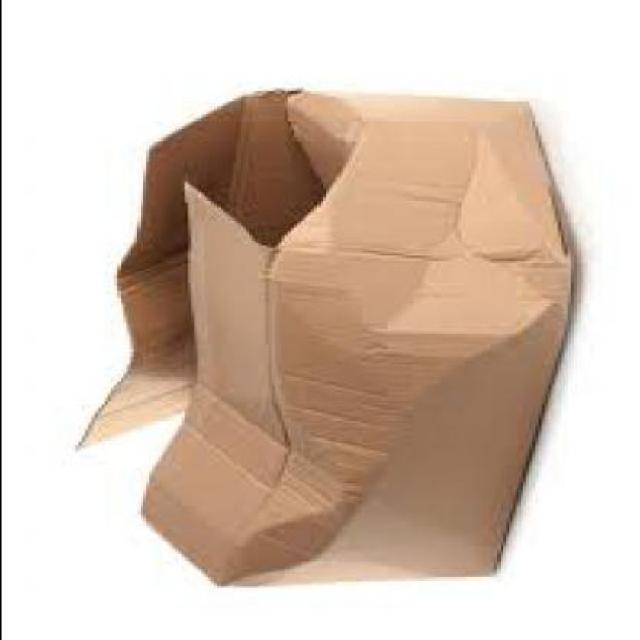CARDBOARD: (76, 91, 570, 583)
